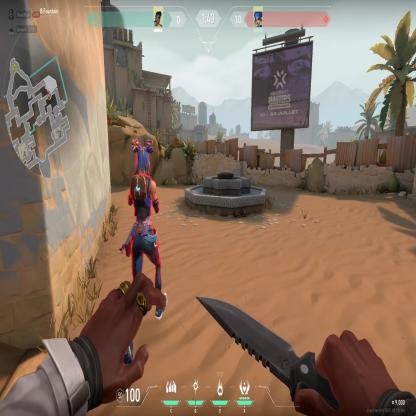enemy: (124, 133, 163, 275)
